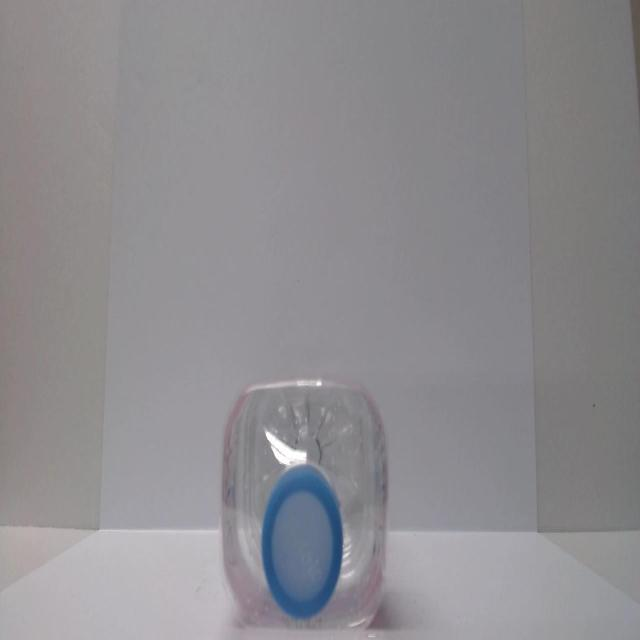bottle: (214, 372, 393, 640)
